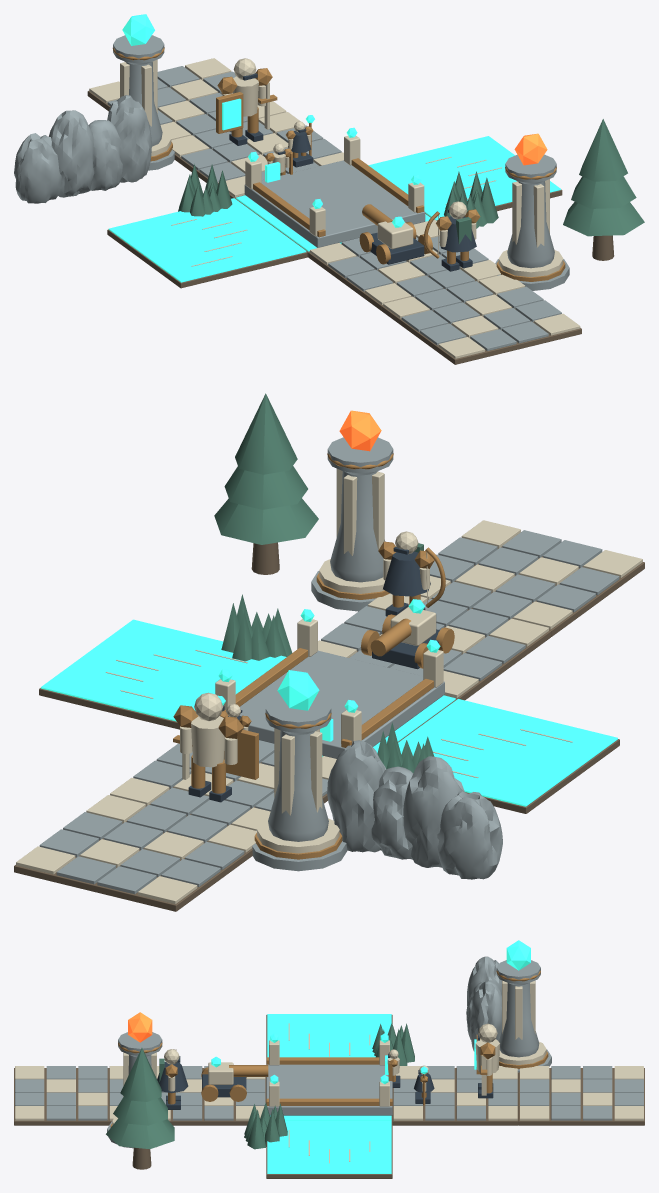
The model's file is sunfall-rift-moba-mid-lane-standoff-fc76c4ad-starter-scene__22007.glb.
3 renders of one model, top to bottom at view 1: azimuth 30°, elevation 25°; view 2: azimuth 150°, elevation 25°; view 3: azimuth 270°, elevation 25°, orthographic. The views are drawn at different scales.
Parts seen in each view (by area): view 1: 017-cliff-ridge/0, 005-river-tile/1, 007-river-crossing/0, 006-river-tile/1, 003-lane-tile/2, 018-canopy-pine/1, 002-lane-tile/2, 009-ember-tower/0, 003-lane-tile/1, 001-lane-tile/2, 000-lane-tile/1, 002-lane-tile/1 (+27 smaller); view 2: 017-cliff-ridge/0, 005-river-tile/1, 006-river-tile/1, 000-lane-tile/2, 003-lane-tile/2, 018-canopy-pine/1, 007-river-crossing/0, 008-teal-tower/0, 000-lane-tile/1, 002-lane-tile/2, 009-ember-tower/0, 003-lane-tile/1 (+28 smaller); view 3: 006-river-tile/1, 007-river-crossing/0, 005-river-tile/1, 000-lane-tile/2, 018-canopy-pine/1, 003-lane-tile/2, 001-lane-tile/2, 008-teal-tower/0, 000-lane-tile/1, 017-cliff-ridge/0, 001-lane-tile/1, 002-lane-tile/2 (+25 smaller).
Boxes of the visible parts, x1,y1,x2,y2 form: 017-cliff-ridge/0: (14, 95, 151, 203); 005-river-tile/1: (108, 198, 306, 282); 007-river-crossing/0: (244, 160, 425, 247); 006-river-tile/1: (368, 136, 560, 220); 003-lane-tile/2: (401, 281, 561, 350); 018-canopy-pine/1: (563, 119, 644, 236); 002-lane-tile/2: (328, 236, 488, 297); 009-ember-tower/0: (495, 154, 569, 290); 003-lane-tile/1: (383, 274, 580, 358); 001-lane-tile/2: (181, 121, 341, 183); 000-lane-tile/1: (89, 58, 286, 139); 002-lane-tile/1: (310, 219, 500, 304); 017-cliff-ridge/0: (327, 740, 502, 879); 005-river-tile/1: (398, 699, 617, 806); 006-river-tile/1: (41, 619, 286, 721); 000-lane-tile/2: (39, 805, 244, 894); 003-lane-tile/2: (430, 530, 619, 619); 018-canopy-pine/1: (214, 393, 318, 544); 007-river-crossing/0: (239, 650, 444, 758); 008-teal-tower/0: (252, 697, 347, 871); 000-lane-tile/1: (16, 795, 256, 904); 002-lane-tile/2: (321, 598, 525, 680); 009-ember-tower/0: (311, 437, 393, 611); 003-lane-tile/1: (420, 520, 642, 629); 006-river-tile/1: (267, 1120, 391, 1173); 007-river-crossing/0: (266, 1064, 392, 1115); 005-river-tile/1: (267, 1014, 391, 1057); 000-lane-tile/2: (520, 1066, 643, 1120); 018-canopy-pine/1: (106, 1048, 174, 1149); 003-lane-tile/2: (15, 1066, 123, 1120); 001-lane-tile/2: (393, 1066, 517, 1120); 008-teal-tower/0: (496, 960, 551, 1072); 000-lane-tile/1: (520, 1066, 643, 1120); 017-cliff-ridge/0: (466, 956, 501, 1051); 001-lane-tile/1: (393, 1066, 517, 1120); 002-lane-tile/2: (161, 1066, 265, 1120).
Bounding box in the file's own units: 13.19 × 4.19 × 20.
